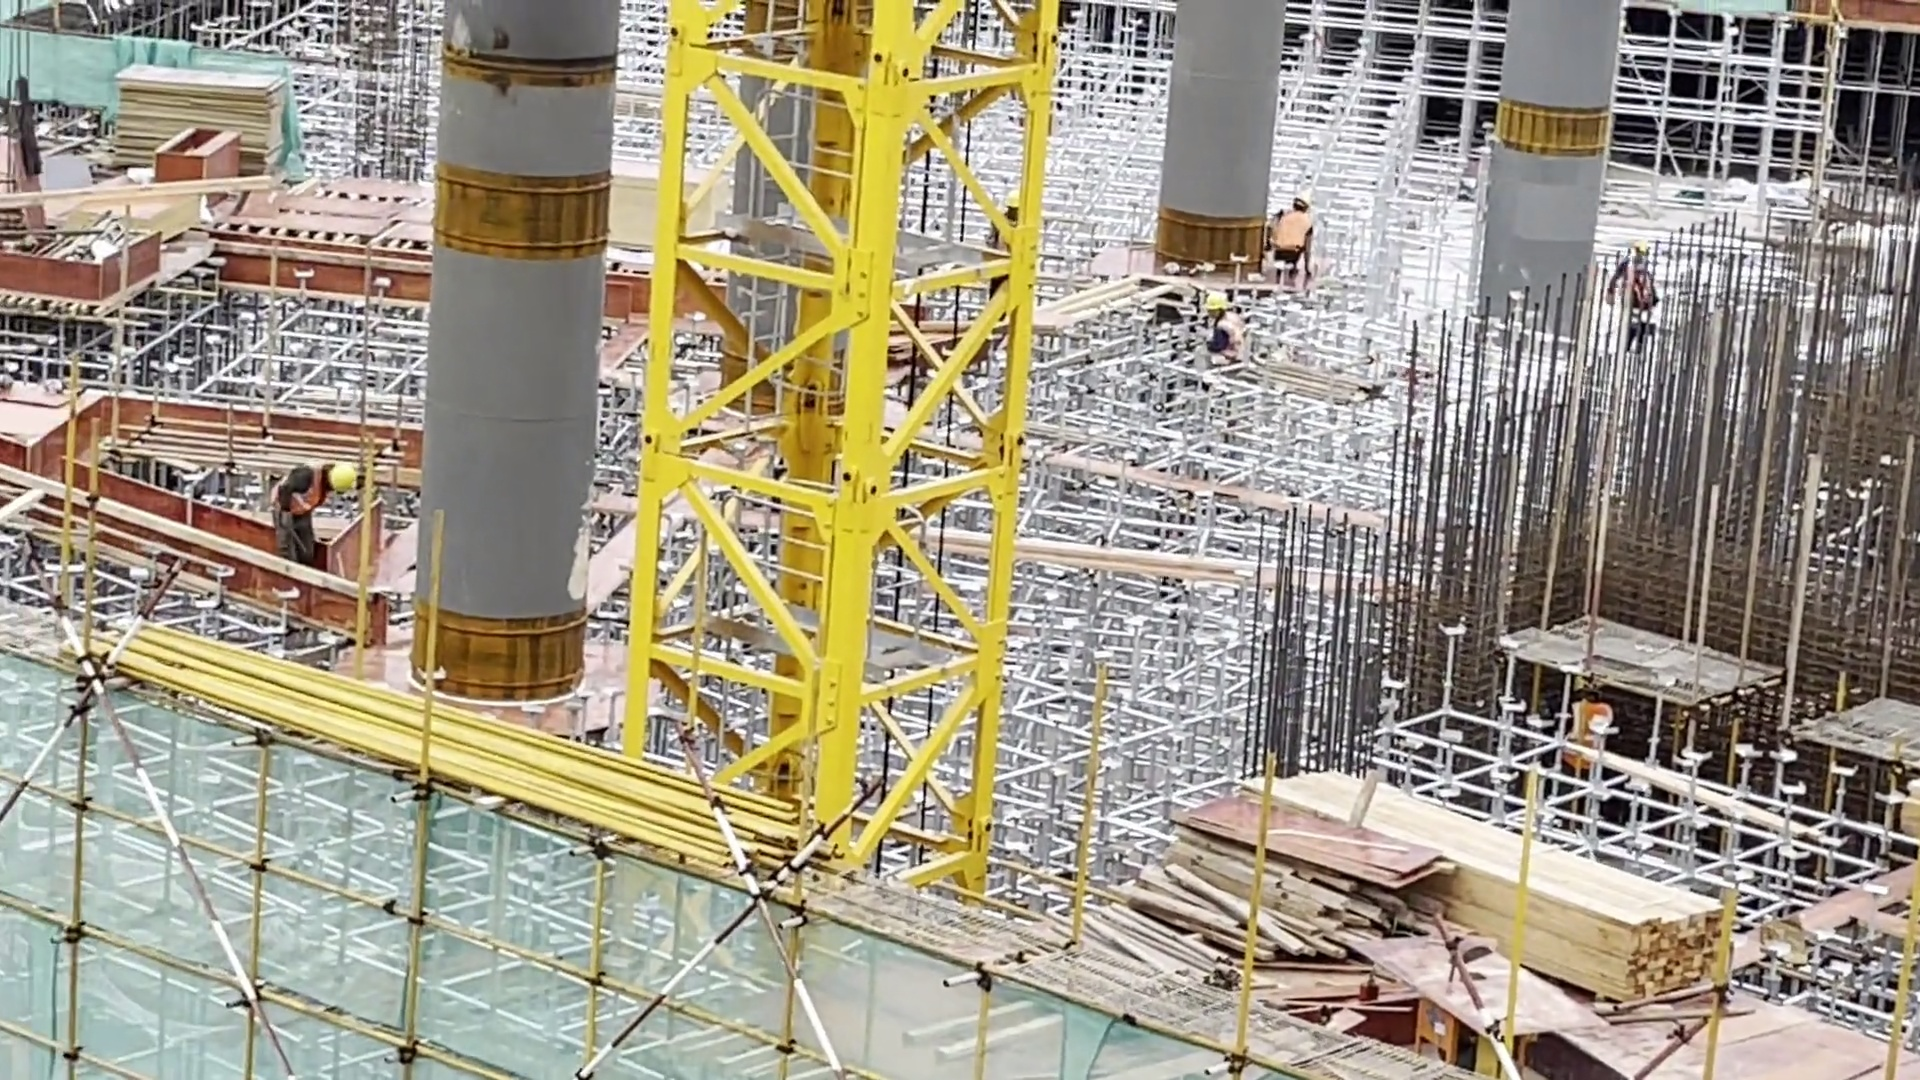cutter: (1364, 930, 1604, 1078)
helmet: (318, 442, 362, 496), (1286, 181, 1322, 216), (1001, 180, 1030, 215), (1198, 294, 1242, 315)
person: (252, 444, 359, 572), (1603, 234, 1661, 341), (1268, 188, 1319, 296), (1194, 291, 1245, 376), (991, 183, 1032, 260)
vest: (269, 468, 320, 519), (1274, 210, 1312, 255), (1209, 316, 1244, 352)
wood: (1265, 777, 1726, 984), (1079, 840, 1410, 970)
